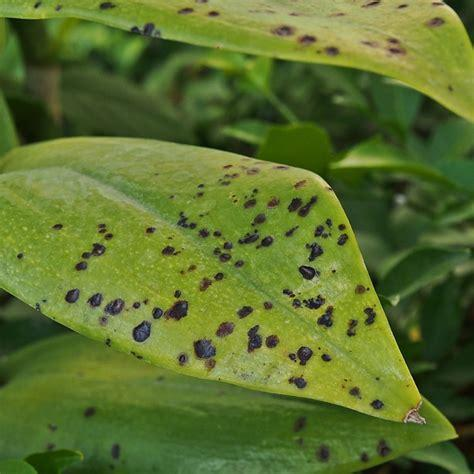black-spot: (62, 214, 189, 332)
